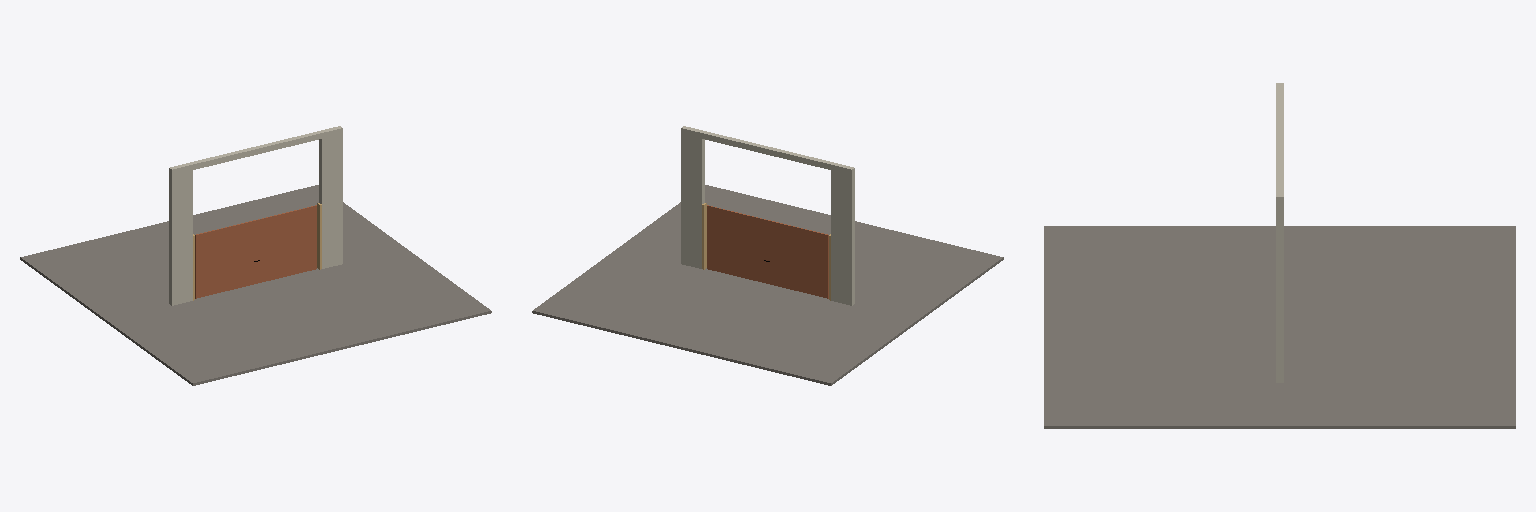
URDF robot description (db0964_garage_sectional_minimal):
<?xml version="1.0" ?>
<robot xmlns:doorbench="https://github.com/adamraudonis/DoorBench/schema/urdf-ext" name="db0964_garage_sectional_minimal">
  <link name="world_env">
    <visual name="floor_vis">
      <origin xyz="0 0 -0.05" rpy="0 0 0"/>
      <geometry>
        <box size="12 12 0.1"/>
      </geometry>
      <material name="mat_floor"/>
    </visual>
    <collision name="floor_col">
      <origin xyz="0 0 -0.05" rpy="0 0 0"/>
      <geometry>
        <box size="12 12 0.1"/>
      </geometry>
    </collision>
    <visual name="wall_left_vis">
      <origin xyz="-3.0125 0 2.615" rpy="0 0 0"/>
      <geometry>
        <box size="0.855 0.2 5.23"/>
      </geometry>
      <material name="mat_wall"/>
    </visual>
    <collision name="wall_left_col">
      <origin xyz="-3.0125 0 2.615" rpy="0 0 0"/>
      <geometry>
        <box size="0.855 0.2 5.23"/>
      </geometry>
    </collision>
    <visual name="wall_right_vis">
      <origin xyz="3.0125 0 2.615" rpy="0 0 0"/>
      <geometry>
        <box size="0.855 0.2 5.23"/>
      </geometry>
      <material name="mat_wall"/>
    </visual>
    <collision name="wall_right_col">
      <origin xyz="3.0125 0 2.615" rpy="0 0 0"/>
      <geometry>
        <box size="0.855 0.2 5.23"/>
      </geometry>
    </collision>
    <visual name="wall_header_vis">
      <origin xyz="0 0 5.12" rpy="0 0 0"/>
      <geometry>
        <box size="5.17 0.2 0.22"/>
      </geometry>
      <material name="mat_wall"/>
    </visual>
    <collision name="wall_header_col">
      <origin xyz="0 0 5.12" rpy="0 0 0"/>
      <geometry>
        <box size="5.17 0.2 0.22"/>
      </geometry>
    </collision>
    <visual name="garage_jamb_l_vis">
      <origin xyz="-2.545 0 1.245" rpy="0 0 0"/>
      <geometry>
        <box size="0.08 0.2 2.49"/>
      </geometry>
      <material name="mat_frame"/>
    </visual>
    <collision name="garage_jamb_l_col">
      <origin xyz="-2.545 0 1.245" rpy="0 0 0"/>
      <geometry>
        <box size="0.08 0.2 2.49"/>
      </geometry>
    </collision>
    <visual name="garage_jamb_r_vis">
      <origin xyz="2.545 0 1.245" rpy="0 0 0"/>
      <geometry>
        <box size="0.08 0.2 2.49"/>
      </geometry>
      <material name="mat_frame"/>
    </visual>
    <collision name="garage_jamb_r_col">
      <origin xyz="2.545 0 1.245" rpy="0 0 0"/>
      <geometry>
        <box size="0.08 0.2 2.49"/>
      </geometry>
    </collision>
  </link>
  <link name="door">
    <inertial>
      <origin xyz="0 0 1.228236" rpy="0 0 0"/>
      <mass value="188.1184"/>
      <inertia ixx="92.977718249" ixy="0" ixz="0" iyy="464.277982515" iyz="0" izz="371.371993544"/>
    </inertial>
    <visual name="section_0_slab_vis">
      <origin xyz="0 0 0.254" rpy="0 0 0"/>
      <geometry>
        <box size="4.88 0.045 0.488"/>
      </geometry>
      <material name="mat_section_0"/>
    </visual>
    <collision name="section_0_slab_col">
      <origin xyz="0 0 0.254" rpy="0 0 0"/>
      <geometry>
        <box size="4.88 0.045 0.488"/>
      </geometry>
    </collision>
    <visual name="section_1_slab_vis">
      <origin xyz="0 0 0.742" rpy="0 0 0"/>
      <geometry>
        <box size="4.88 0.045 0.488"/>
      </geometry>
      <material name="mat_section_1"/>
    </visual>
    <collision name="section_1_slab_col">
      <origin xyz="0 0 0.742" rpy="0 0 0"/>
      <geometry>
        <box size="4.88 0.045 0.488"/>
      </geometry>
    </collision>
    <visual name="section_2_slab_vis">
      <origin xyz="0 0 1.23" rpy="0 0 0"/>
      <geometry>
        <box size="4.88 0.045 0.488"/>
      </geometry>
      <material name="mat_section_2"/>
    </visual>
    <collision name="section_2_slab_col">
      <origin xyz="0 0 1.23" rpy="0 0 0"/>
      <geometry>
        <box size="4.88 0.045 0.488"/>
      </geometry>
    </collision>
    <visual name="section_3_slab_vis">
      <origin xyz="0 0 1.718" rpy="0 0 0"/>
      <geometry>
        <box size="4.88 0.045 0.488"/>
      </geometry>
      <material name="mat_section_3"/>
    </visual>
    <collision name="section_3_slab_col">
      <origin xyz="0 0 1.718" rpy="0 0 0"/>
      <geometry>
        <box size="4.88 0.045 0.488"/>
      </geometry>
    </collision>
    <visual name="section_4_slab_vis">
      <origin xyz="0 0 2.206" rpy="0 0 0"/>
      <geometry>
        <box size="4.88 0.045 0.488"/>
      </geometry>
      <material name="mat_section_4"/>
    </visual>
    <collision name="section_4_slab_col">
      <origin xyz="0 0 2.206" rpy="0 0 0"/>
      <geometry>
        <box size="4.88 0.045 0.488"/>
      </geometry>
    </collision>
    <visual name="lift_handle_n_vis">
      <origin xyz="0 -0.0225 0.9" rpy="1.570796 0 0"/>
      <geometry>
        <mesh filename="../../hardware/pull_bdc5e965ab.obj"/>
      </geometry>
      <material name="mat_op_black_matte_metal"/>
    </visual>
    <collision name="lift_handle_col_n_col">
      <origin xyz="0 -0.0725 0.9" rpy="0 0 0"/>
      <geometry>
        <box size="0.2 0.012 0.03"/>
      </geometry>
    </collision>
    <visual name="lift_handle_p_vis">
      <origin xyz="0 0.0225 0.9" rpy="-1.570796 0 0"/>
      <geometry>
        <mesh filename="../../hardware/pull_bdc5e965ab.obj"/>
      </geometry>
      <material name="mat_op_black_matte_metal"/>
    </visual>
    <collision name="lift_handle_col_p_col">
      <origin xyz="0 0.0725 0.9" rpy="0 0 0"/>
      <geometry>
        <box size="0.2 0.012 0.03"/>
      </geometry>
    </collision>
  </link>
  <joint name="door_slide" type="prismatic">
    <origin xyz="0 0 0" rpy="0 0 0"/>
    <parent link="world_env"/>
    <child link="door"/>
    <axis xyz="0 0 1"/>
    <limit lower="0" upper="2.39" effort="5000" velocity="10"/>
    <dynamics damping="11.40592" friction="73.792452"/>
    <doorbench:spring stiffness="220.063108" springref="7.966667" note="tau = -stiffness*(q - springref); not native URDF"/>
    <doorbench:note text="counterbalance spring ~95% of weight counterbalance ~95% of 188 kg"/>
  </joint>
  <material name="mat_floor">
    <color rgba="0.55 0.53 0.5 1"/>
  </material>
  <material name="mat_frame">
    <color rgba="0.82 0.7 0.5 1"/>
  </material>
  <material name="mat_op_black_matte_metal">
    <color rgba="0.05 0.05 0.05 1"/>
  </material>
  <material name="mat_section_0">
    <color rgba="0.7 0.45 0.32 1"/>
  </material>
  <material name="mat_section_1">
    <color rgba="0.7 0.45 0.32 1"/>
  </material>
  <material name="mat_section_2">
    <color rgba="0.7 0.45 0.32 1"/>
  </material>
  <material name="mat_section_3">
    <color rgba="0.7 0.45 0.32 1"/>
  </material>
  <material name="mat_section_4">
    <color rgba="0.7 0.45 0.32 1"/>
  </material>
  <material name="mat_wall">
    <color rgba="0.78 0.76 0.7 1"/>
  </material>
</robot>

--- What the picture shows (computed from the rendered views, not written in the file) ---
The picture shows the robot from 3 angles, left to right: view 1: azimuth 30°, elevation 25°; view 2: azimuth 150°, elevation 25°; view 3: azimuth 270°, elevation 25°; orthographic projection.
Robot: db0964_garage_sectional_minimal — 2 links, 1 joints (1 prismatic); root link world_env; default pose: all joints at 0.
Visible links, largest first — view 1: world_env, door; view 2: world_env, door; view 3: world_env.
Link boxes in pixels (<box>): world_env: <box>20,126,491,385</box>; door: <box>195,205,316,298</box>; world_env: <box>532,126,1003,385</box>; door: <box>707,205,828,298</box>; world_env: <box>1044,83,1515,428</box>.
Bounding box of the posed robot: 12 × 12 × 5.33 m (x, y, z).
2 mesh visuals loaded from 1 distinct referenced files (1 OBJ).
